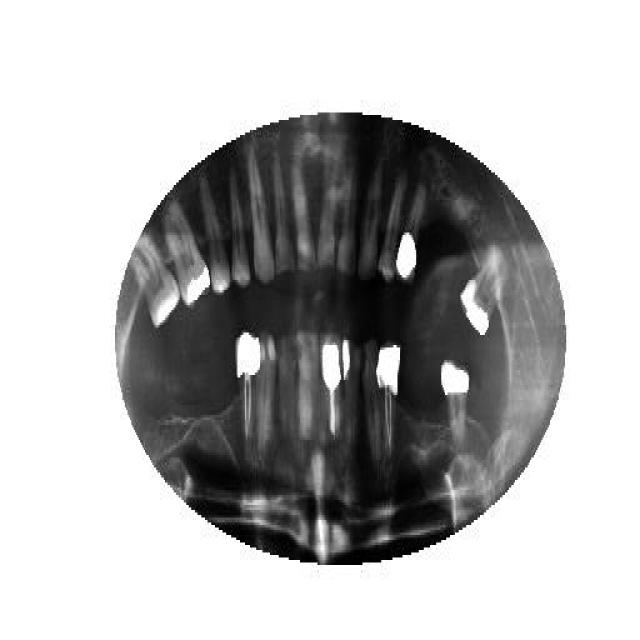Fillings: (162, 198, 212, 310), (458, 252, 504, 338), (395, 177, 426, 285), (440, 358, 470, 452), (341, 338, 360, 450)
Implant: (232, 327, 258, 455), (376, 340, 402, 458), (320, 330, 340, 450)
